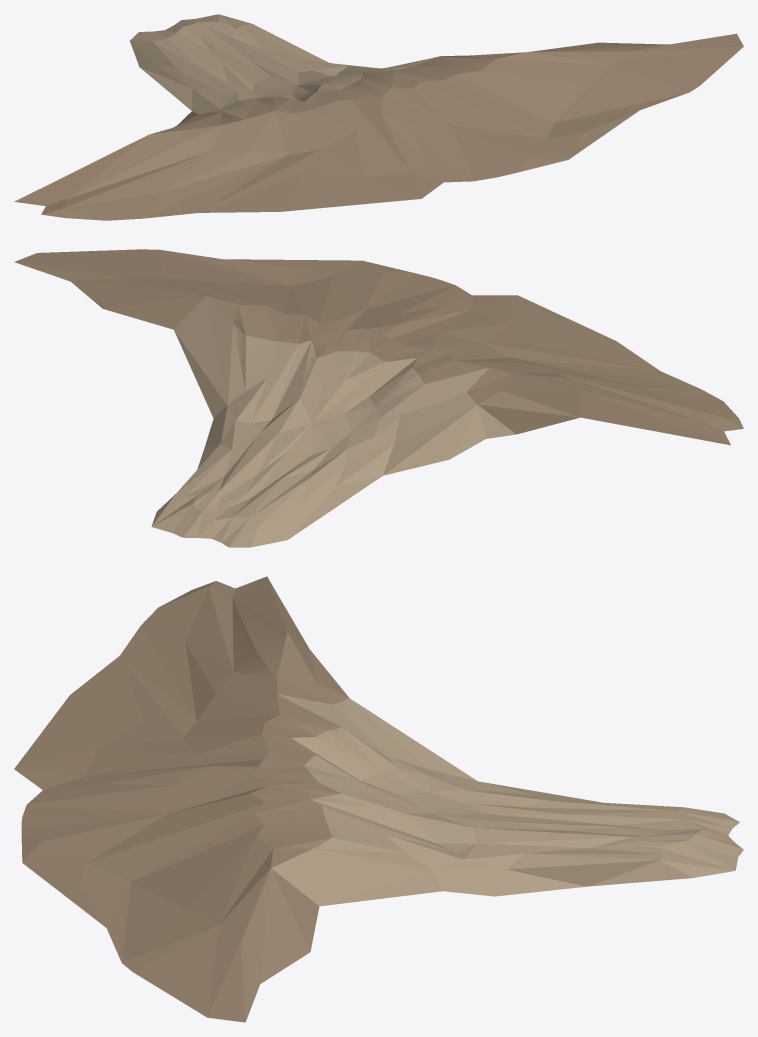
File: SM_Env_DirtRoad_Exit_02.fbx
The picture shows the model from 3 angles, top to bottom: view 1: azimuth 30°, elevation 25°; view 2: azimuth 150°, elevation 25°; view 3: azimuth 270°, elevation 25°; orthographic projection. The views are drawn at different scales.
Parts seen in each view (by area): view 1: SM_Env_DirtRoad_Exit_02; view 2: SM_Env_DirtRoad_Exit_02; view 3: SM_Env_DirtRoad_Exit_02.
Part boxes in pixels (x1=…): SM_Env_DirtRoad_Exit_02: x1=14, y1=14, x2=743, y2=220; SM_Env_DirtRoad_Exit_02: x1=14, y1=249, x2=743, y2=547; SM_Env_DirtRoad_Exit_02: x1=14, y1=576, x2=743, y2=1022.
Size of the model in its own units: 1371 by 137 by 948.
